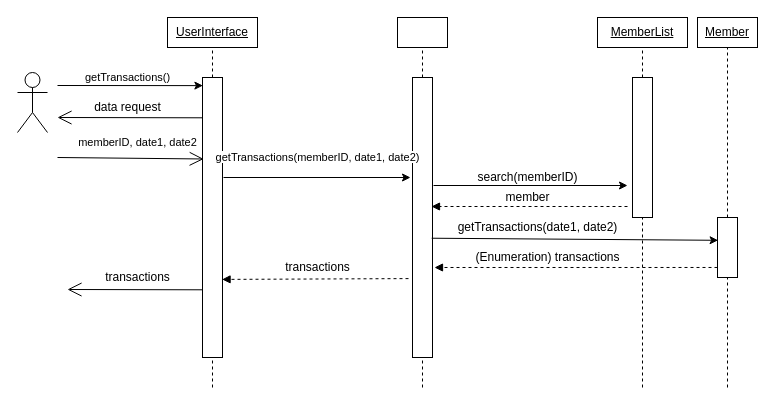
Image size: 775x406. Some labels were removed from this diagram. Each missing label, with the box of its shape:
Clerk: (16, 72, 48, 132)
Store: (396, 16, 448, 48)
